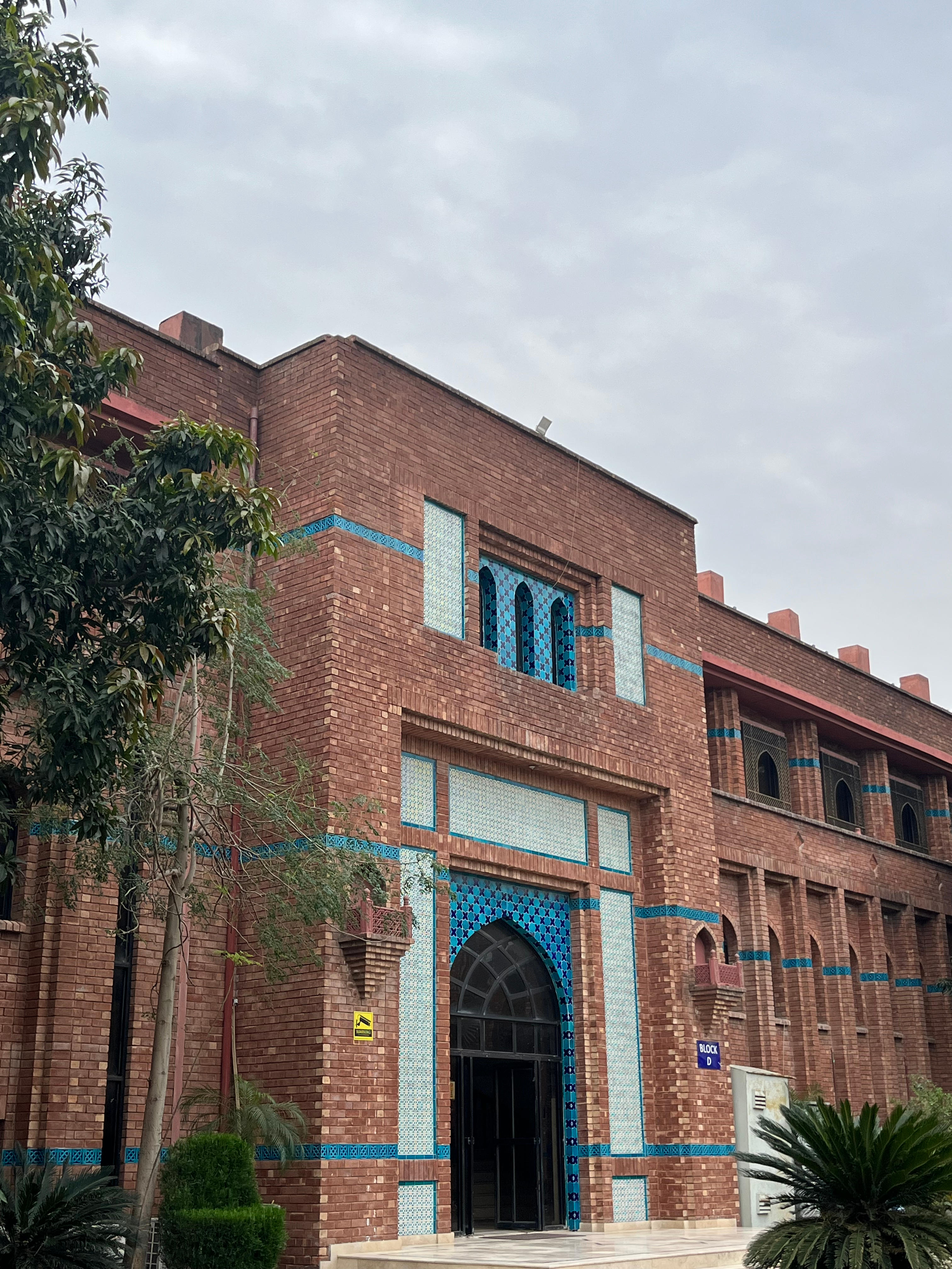Block D: (4, 268, 952, 1252)
